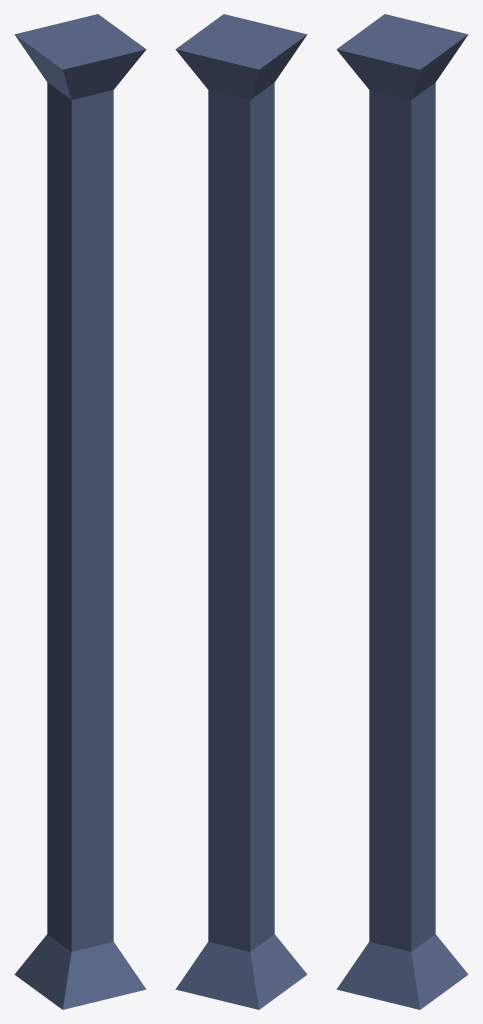
The model's file is Mall Pillar.glb.
The picture shows the model from 3 angles, left to right: view 1: azimuth 30°, elevation 25°; view 2: azimuth 150°, elevation 25°; view 3: azimuth 330°, elevation 25°; orthographic projection.
Parts seen in each view (by area): view 1: Cube.042; view 2: Cube.042; view 3: Cube.042.
Boxes of the visible parts, left/top/right/bottom form: Cube.042: left=14, top=14, right=146, bottom=1009; Cube.042: left=175, top=14, right=307, bottom=1009; Cube.042: left=336, top=14, right=468, bottom=1009.
Bounding box in the file's own units: 11.95 × 128 × 11.95.
Materials: 1 (1 with a texture image).
